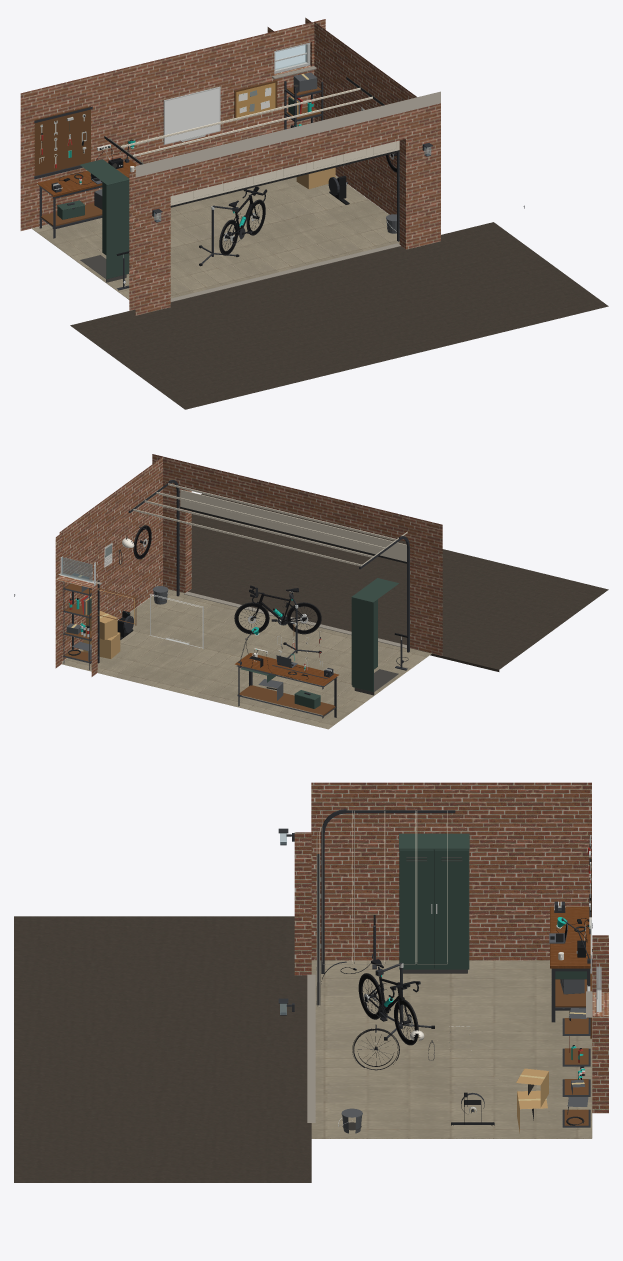
The model's file is garage.glb.
3 renders of one model, top to bottom at view 1: azimuth 30°, elevation 25°; view 2: azimuth 150°, elevation 25°; view 3: azimuth 270°, elevation 25°, orthographic. The views are drawn at different scales.
Parts seen in each view (by area): view 1: Vorplatz, Wand_Rueck, Boden, Sturz, Wand_Rechts, Pfeiler_R, Pfeiler_L, Decke, Schrank, Werkzeugwand_Platte, Whiteboard_Flaeche, Tor_Segment_Kassetten (+12 smaller); view 2: Vorplatz, Boden, Wand_Rechts, Sturz, Tor_Segment, Pfeiler_L, Schrank, Tor_Deckenlauf, Pfeiler_R, Wand_Rueck, Werkbank_Gestell, Regal (+13 smaller); view 3: Vorplatz, Boden, Wand_Links, Schrank_Tuer_L, Schrank_Tuer_R, Wand_Rueck, Pfeiler_L, Schrank, Werkbank_Platte, Regal, Tor_Deckenlauf, Schwelle (+4 smaller).
Boxes of the visible parts, x1,y1,x2,y2 form: Vorplatz: (70, 222, 608, 409); Wand_Rueck: (20, 17, 325, 230); Boden: (32, 176, 399, 299); Sturz: (135, 103, 440, 204); Wand_Rechts: (314, 22, 416, 214); Pfeiler_R: (399, 130, 440, 249); Pfeiler_L: (135, 196, 170, 315); Decke: (135, 91, 440, 177); Schrank: (80, 159, 129, 282); Werkzeugwand_Platte: (34, 106, 90, 175); Whiteboard_Flaeche: (165, 88, 219, 143); Tor_Segment_Kassetten: (170, 141, 396, 203); Vorplatz: (172, 493, 608, 671); Boden: (62, 589, 431, 729); Wand_Rechts: (59, 457, 162, 661); Sturz: (152, 454, 442, 550); Tor_Segment: (180, 489, 406, 561); Pfeiler_L: (409, 542, 442, 655); Schrank: (351, 578, 398, 695); Tor_Deckenlauf: (133, 483, 407, 566); Pfeiler_R: (163, 482, 191, 592); Wand_Rueck: (55, 533, 97, 676); Werkbank_Gestell: (236, 665, 337, 718); Regal: (62, 580, 99, 669); Vorplatz: (14, 916, 311, 1182); Boden: (311, 960, 592, 1138); Wand_Links: (311, 782, 591, 960); Schrank_Tuer_L: (434, 849, 468, 968); Schrank_Tuer_R: (399, 849, 433, 968); Wand_Rueck: (592, 935, 608, 1113); Pfeiler_L: (294, 832, 311, 975); Schrank: (399, 833, 469, 973); Werkbank_Platte: (550, 906, 590, 968); Regal: (562, 1008, 590, 1127); Tor_Deckenlauf: (322, 811, 447, 964); Schwelle: (307, 974, 315, 1122).
Bounding box in the file's own units: 10.24 × 3.46 × 8.48.
36 materials, 4 textured.
